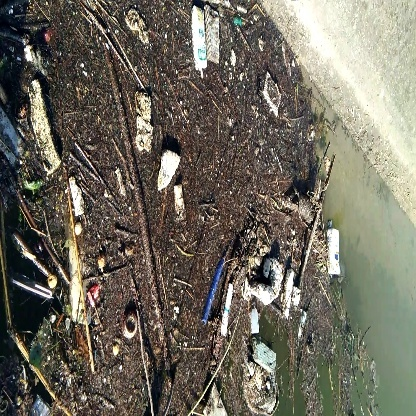milk-box: (185, 5, 209, 78), (324, 222, 348, 280)
